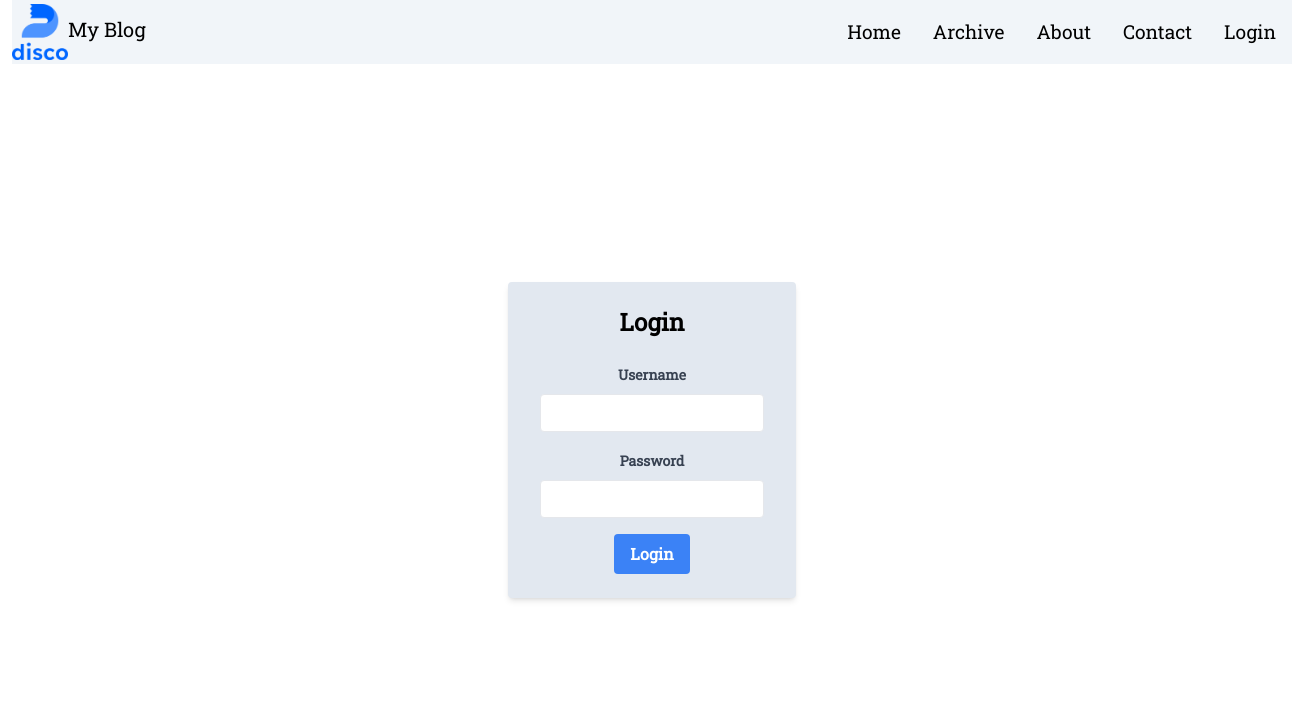
Test: Login Page › should show an error message with incorrect data
The image size is (1292, 720).
Type "test" into the field with id "login-userName". click: (652, 413)
box: [540, 394, 764, 432]
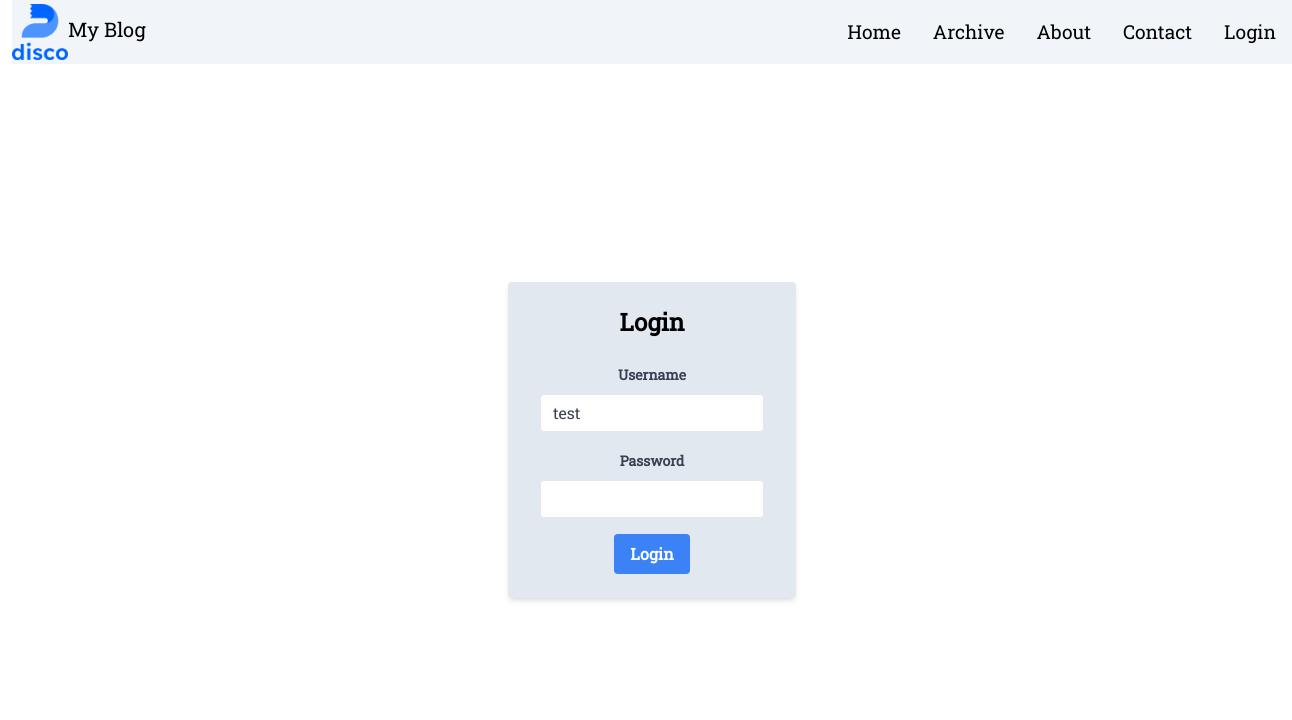
Type "test" into the password field with id "login-password". click: (652, 499)
box: [540, 480, 764, 518]
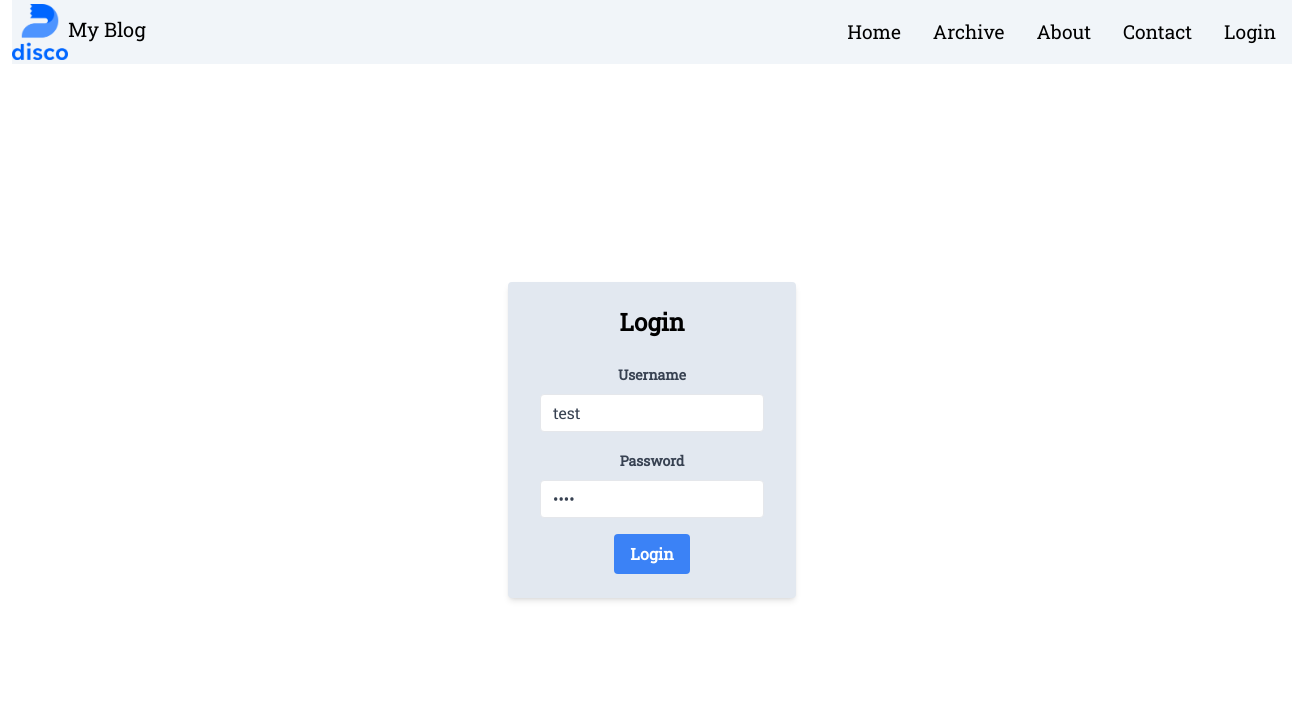
Click the submit button. click: (652, 554)
box: [614, 534, 689, 574]
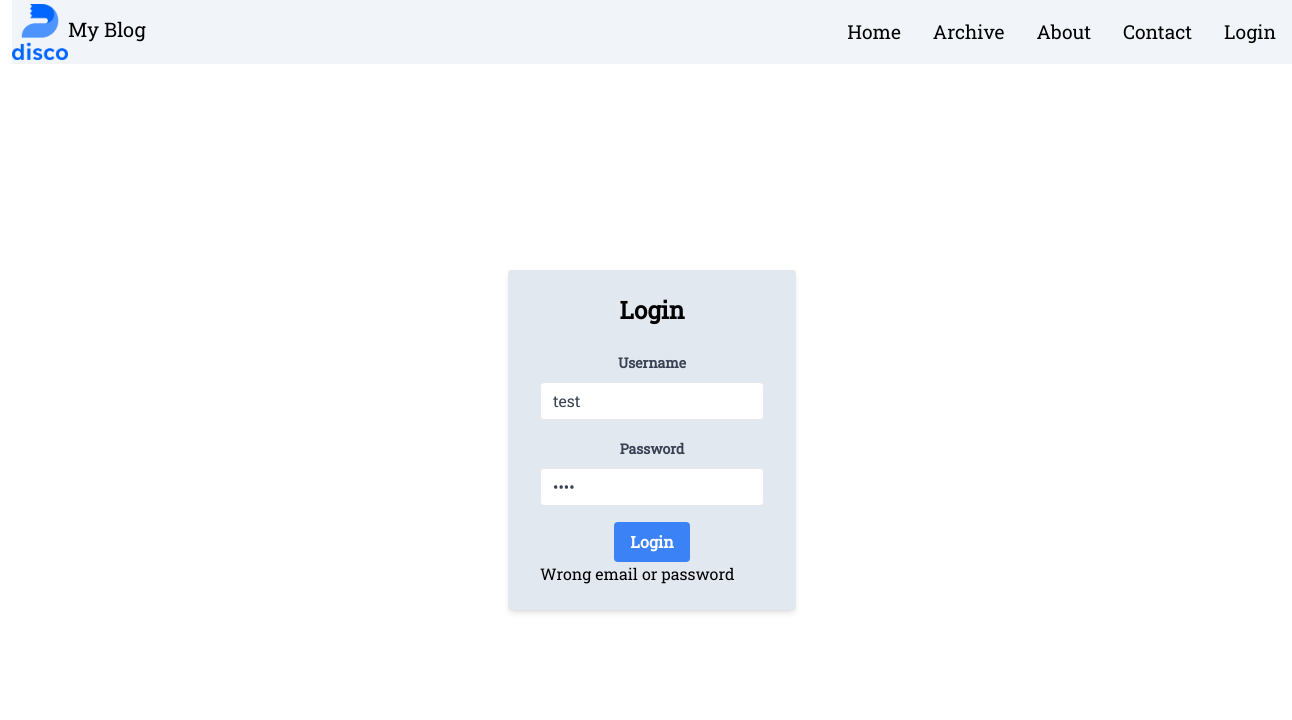
Expected: the text "Wrong email or password" is shown, [540, 562, 764, 586]
